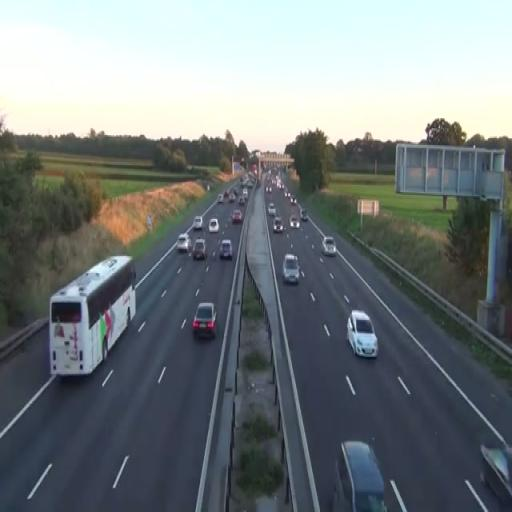Bus: (49, 253, 137, 378)
Car: (332, 439, 388, 512), (479, 441, 512, 503), (346, 310, 378, 360), (192, 301, 218, 340), (282, 253, 300, 285), (177, 232, 192, 254), (192, 238, 206, 261), (219, 239, 233, 262), (321, 236, 337, 256), (192, 215, 204, 230), (231, 210, 243, 224), (273, 217, 284, 232), (209, 218, 219, 233)
